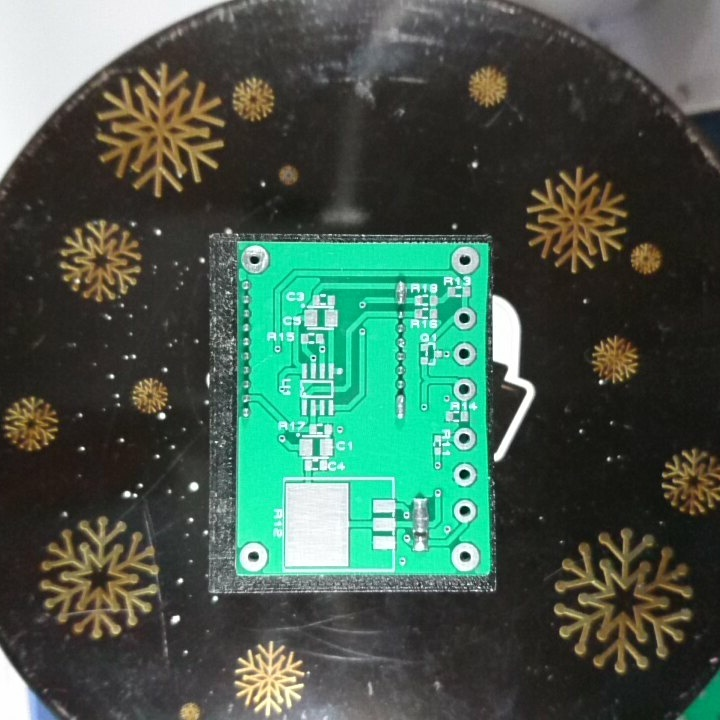F: (237, 541, 271, 574), (239, 243, 273, 276), (449, 244, 481, 277), (449, 540, 482, 572), (451, 460, 479, 489), (451, 340, 479, 368), (451, 426, 479, 453), (452, 377, 478, 403), (451, 498, 477, 523), (453, 306, 477, 331)
P: (411, 496, 430, 535), (392, 392, 407, 420), (394, 278, 407, 308)
